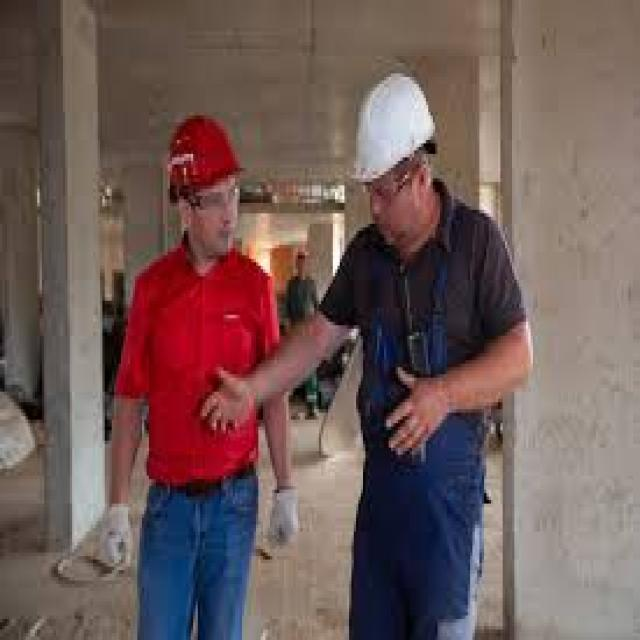red helmet: (151, 106, 261, 184)
white helmet: (329, 59, 459, 191)
